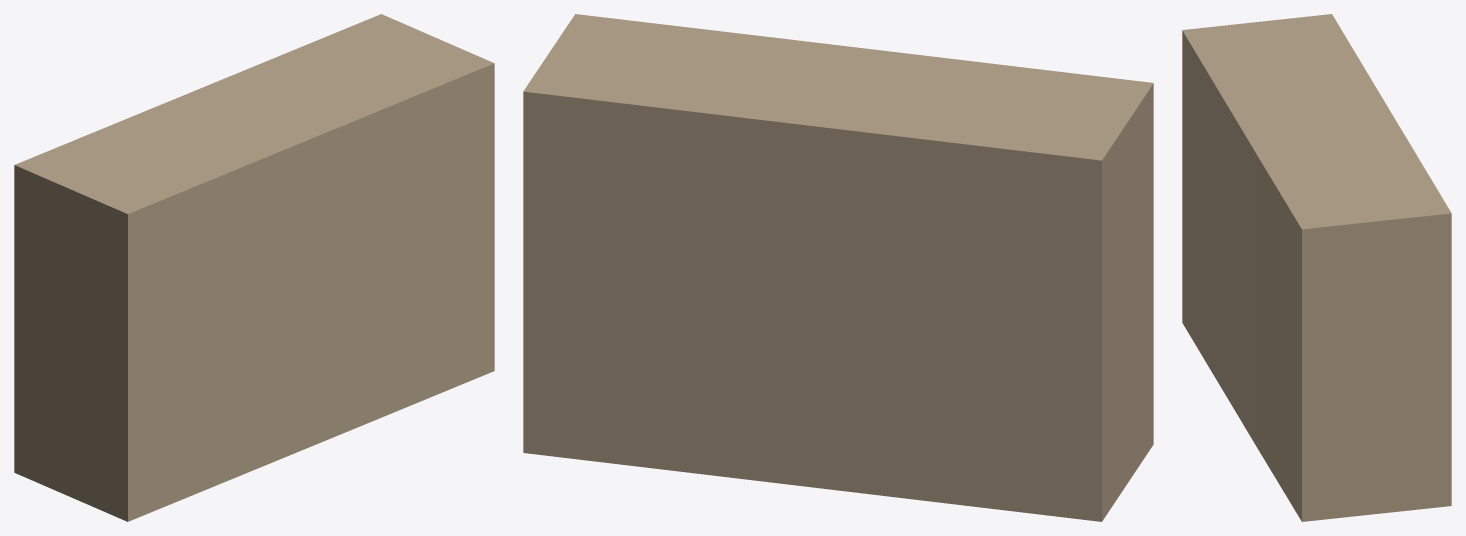
The model's file is bld_99872125.dae.
The picture shows the model from 3 angles, left to right: view 1: azimuth 30°, elevation 25°; view 2: azimuth 150°, elevation 25°; view 3: azimuth 270°, elevation 25°; orthographic projection. The views are drawn at different scales.
Parts seen in each view (by area): view 1: bld_99872125; view 2: bld_99872125; view 3: bld_99872125.
Part boxes in pixels (left/top/right/bottom): bld_99872125: left=14, top=14, right=494, bottom=521; bld_99872125: left=523, top=14, right=1153, bottom=521; bld_99872125: left=1182, top=14, right=1451, bottom=521.
Bounding box in the file's own units: 12.63 × 6.68 × 8.
